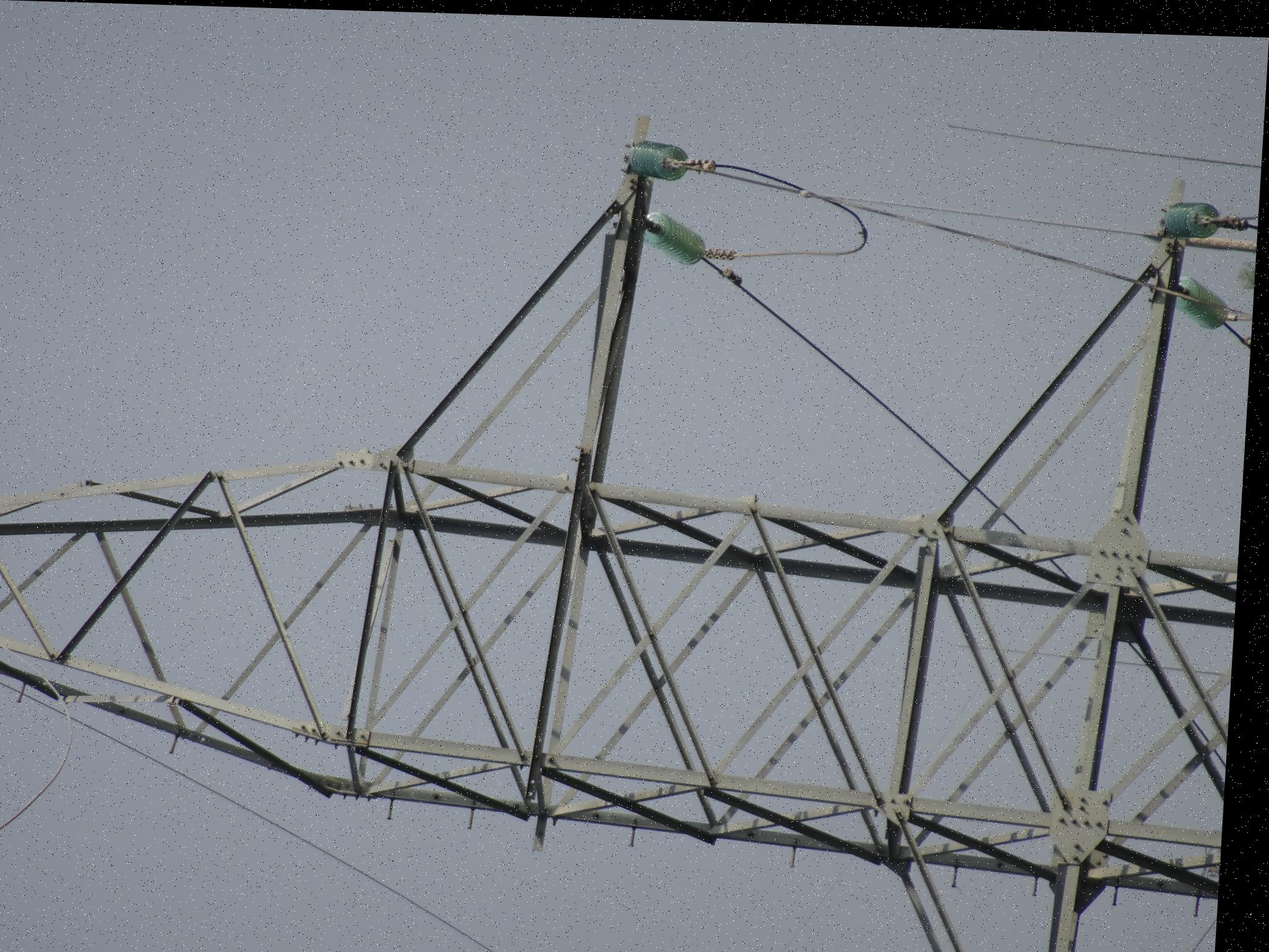tower: (0, 0, 816, 952)
